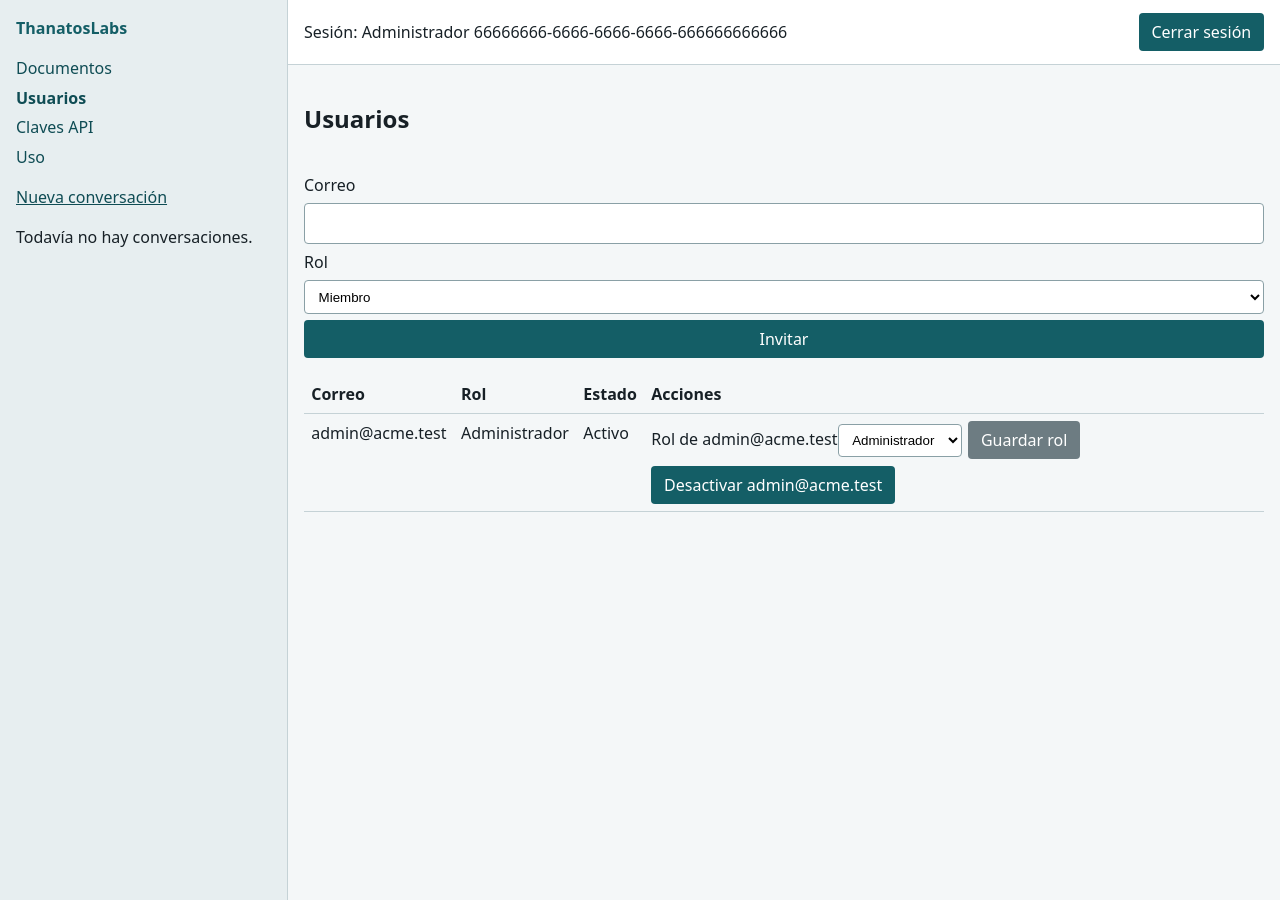
Test: no degrada al último administrador activo
Expected: the text "admin@acme.test" is shown, [304, 413, 454, 512]
Click the button "Desactivar admin@acme.test" at (773, 485), box [651, 466, 895, 504]
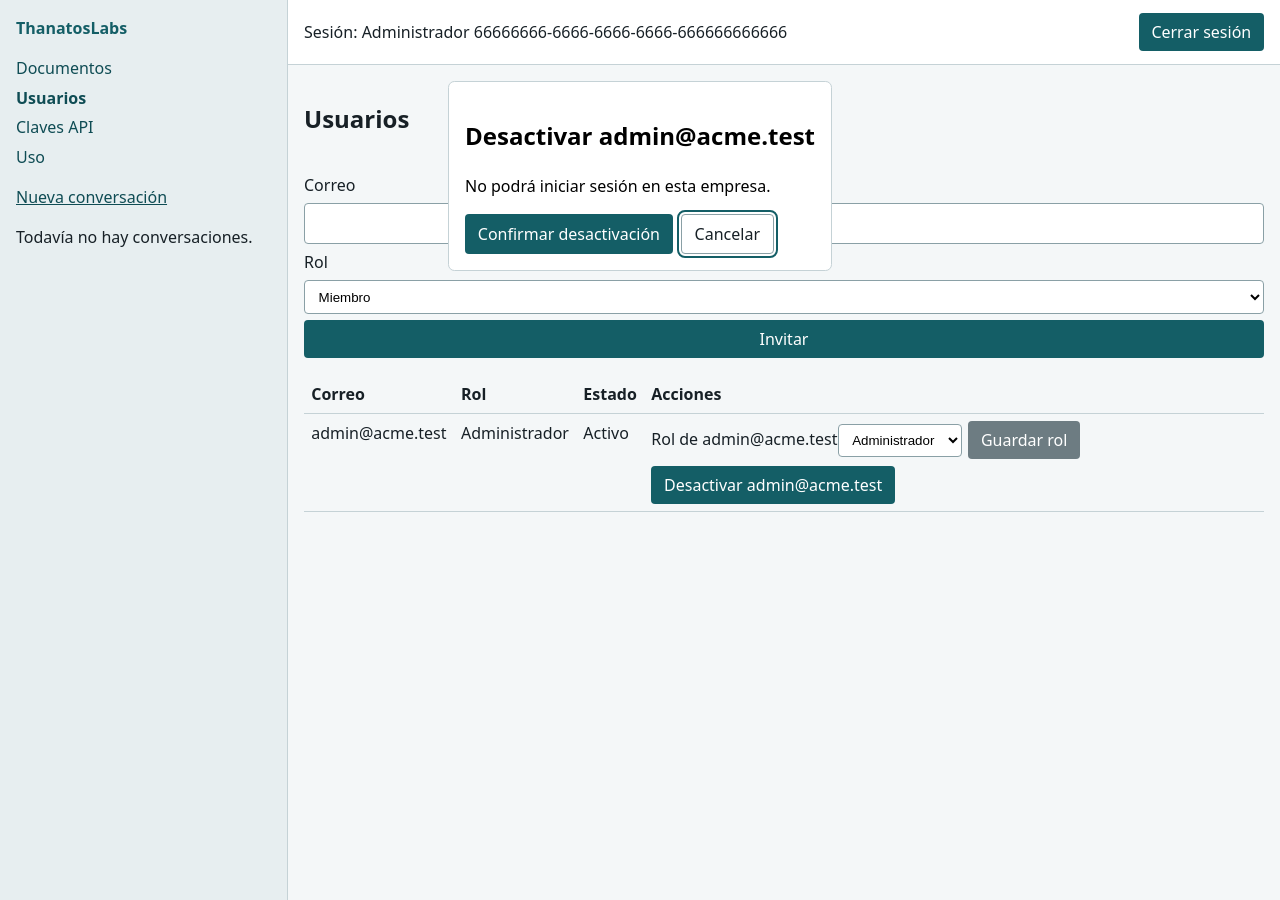
Now the heading "Desactivar admin@acme.test" is shown, box [465, 118, 815, 154]
Now the text "No podrá iniciar sesión en esta empresa." is shown, box [465, 174, 815, 198]
Click the button "Confirmar desactivación" at (569, 234), box [465, 214, 673, 254]
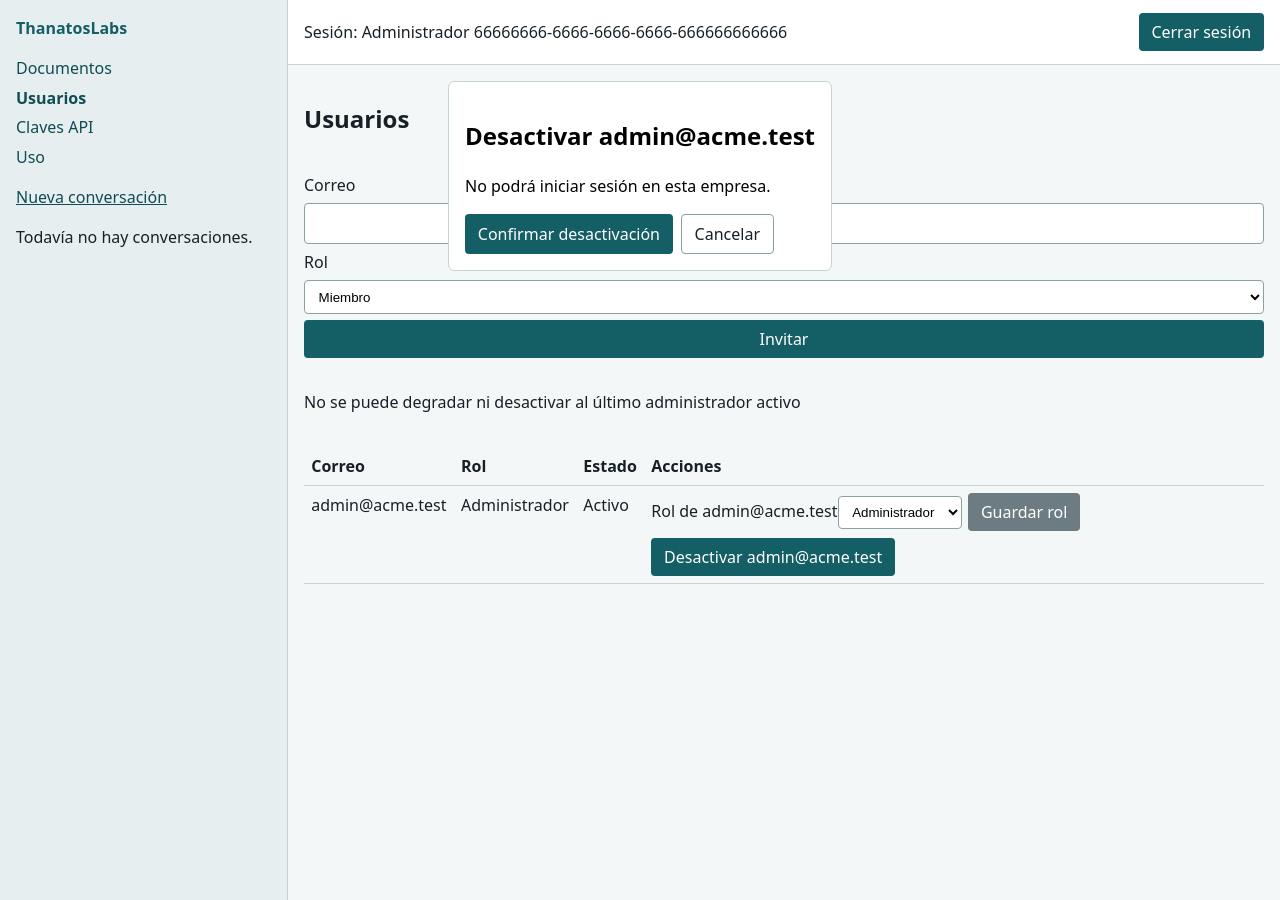
Expected: the text "admin@acme.test" is shown, [304, 485, 454, 584]
Now the message reads "No se puede degradar ni desactivar al último administrador activo", box [304, 392, 801, 414]
